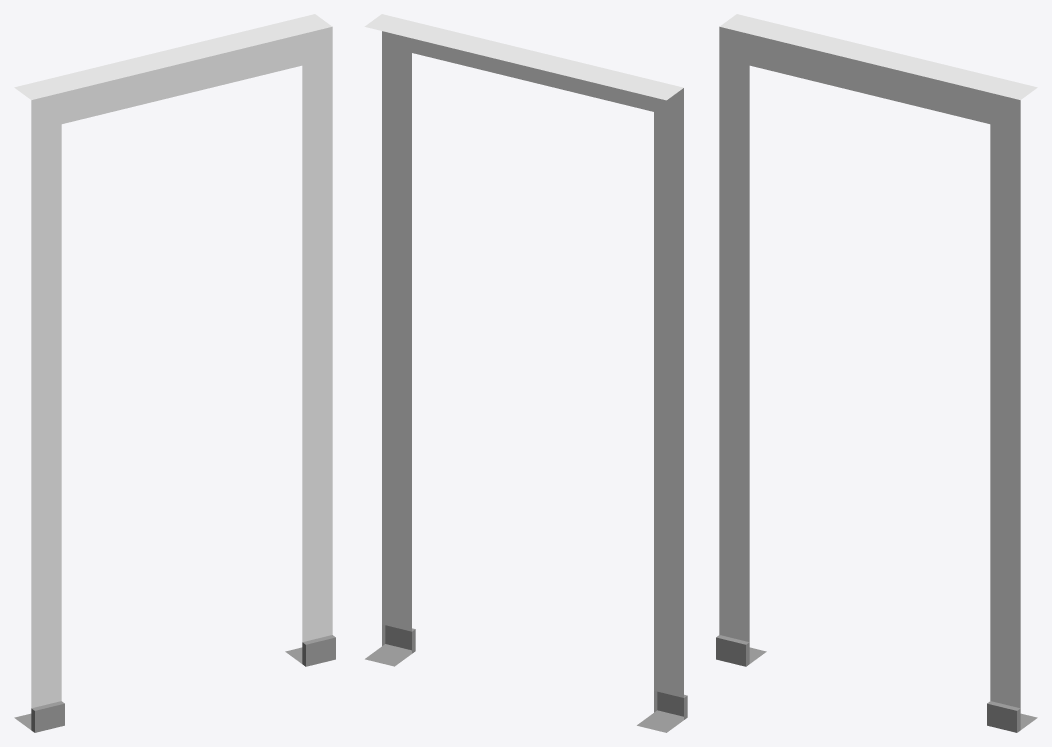
The model's file is Int-V2DoorframeWhite.fbx.
3 views of the same model, side by side, from view 1: azimuth 30°, elevation 25°; view 2: azimuth 150°, elevation 25°; view 3: azimuth 330°, elevation 25° (orthographic).
Visible parts, largest first — view 1: Int-V2DoorframeWhite; view 2: Int-V2DoorframeWhite; view 3: Int-V2DoorframeWhite.
Boxes of the visible parts, x1,y1,x2,y2 form: Int-V2DoorframeWhite: (14, 14, 335, 732); Int-V2DoorframeWhite: (364, 14, 687, 732); Int-V2DoorframeWhite: (716, 14, 1037, 732).
Bounding box in the file's own units: 100 × 200 × 12.
